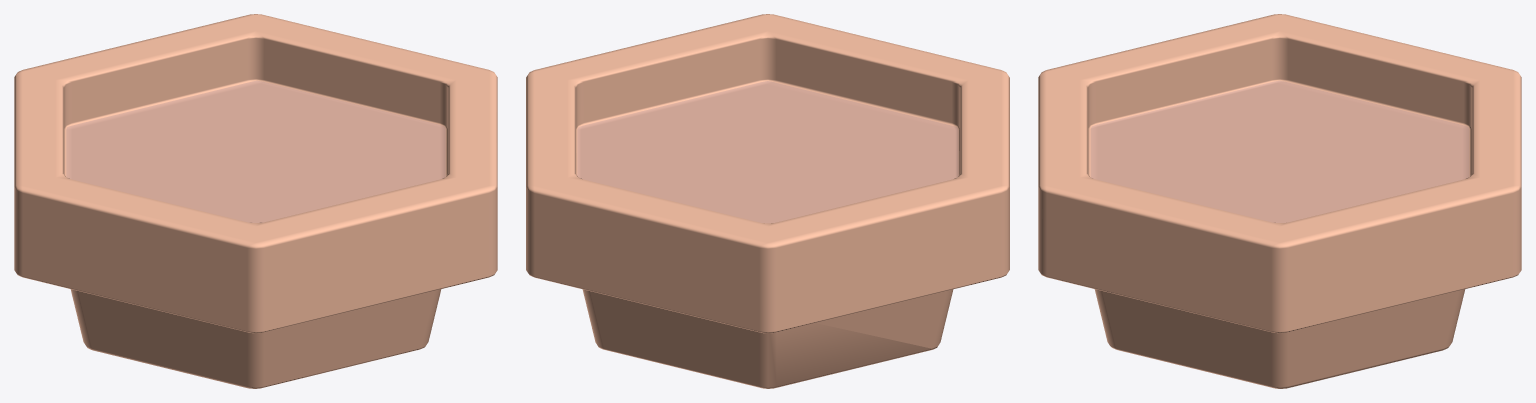
The model's file is pot_large.glb.
The picture shows the model from 3 angles, left to right: view 1: azimuth 30°, elevation 25°; view 2: azimuth 150°, elevation 25°; view 3: azimuth 270°, elevation 25°; orthographic projection.
Parts seen in each view (by area): view 1: pot_large; view 2: pot_large; view 3: pot_large.
Boxes of the visible parts, <box> form: pot_large: <box>14,14,497,388</box>; pot_large: <box>526,14,1009,388</box>; pot_large: <box>1038,14,1521,388</box>.
Bounding box in the file's own units: 0.5577 × 0.2 × 0.4881.
